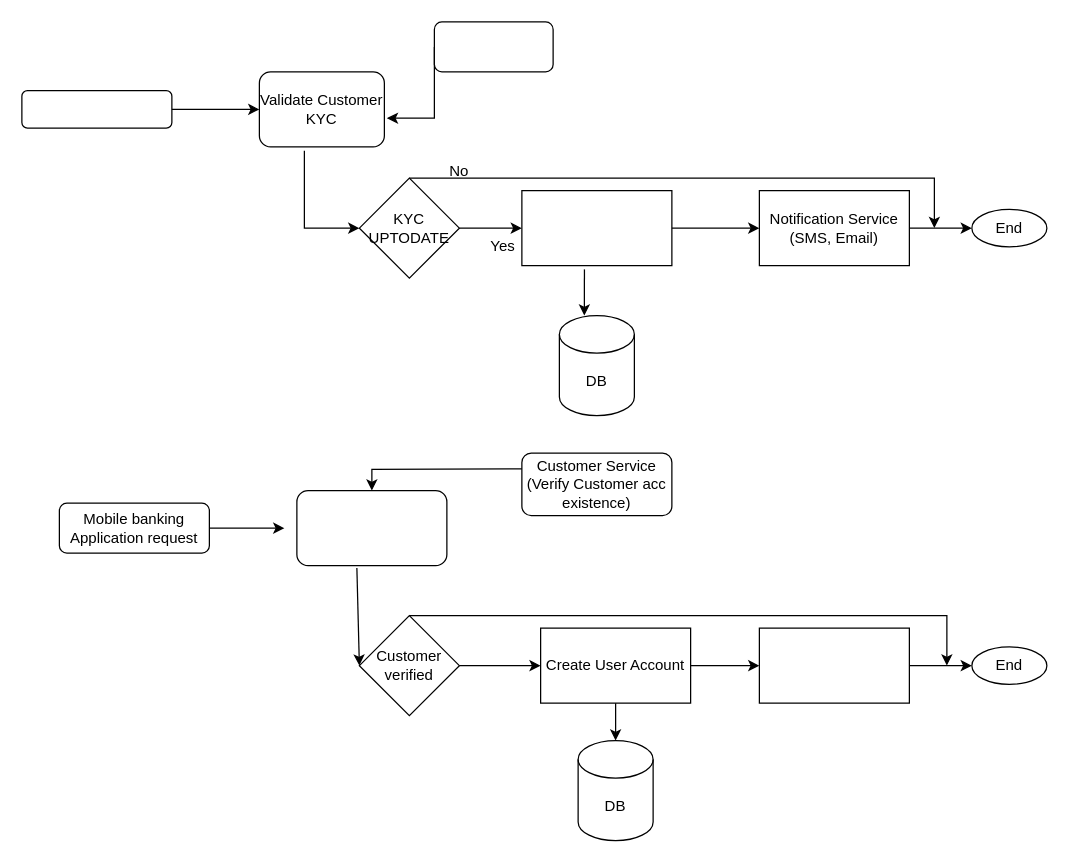
The diagram is 1069 pixels wide and 863 high, and some of its shapes have lost their labels. Here are the shapes that lost their labels. From the top down, the box of each, then its label:
(433, 21, 553, 72): Beneficiary KYC
(21, 89, 172, 128): Customer registration request
(521, 189, 672, 266): Register Customer
(296, 489, 447, 566): Verify Customer Details
(758, 627, 909, 703): Notification Service (OTP ,SMS, Email)
